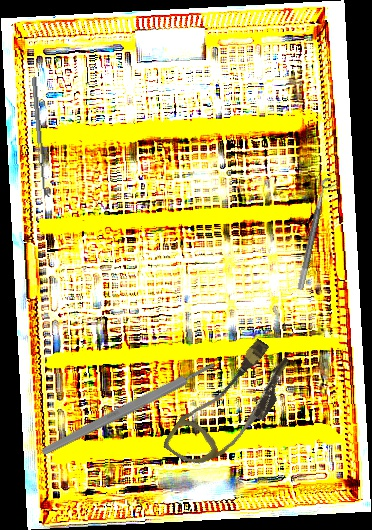Cannula: (161, 328, 300, 485)
Fixation Ring: (296, 176, 339, 293)
Scalpel Handle: (40, 359, 217, 458)
Spatula Surgical: (31, 76, 52, 198)
